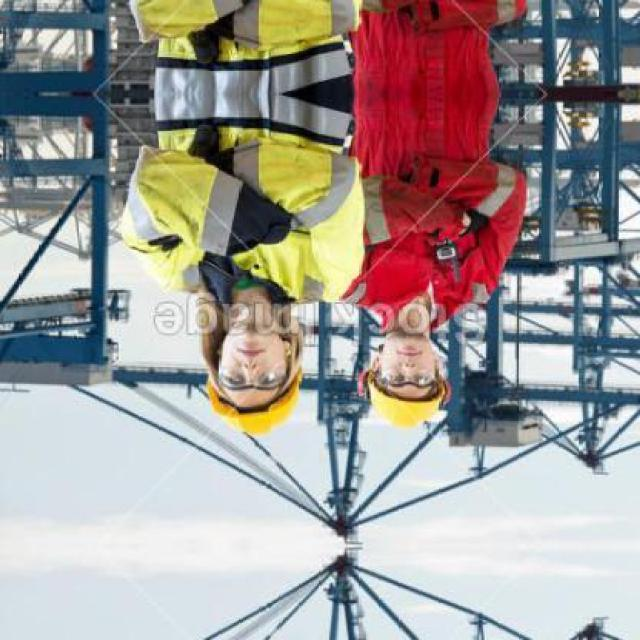safetyhelmet: (202, 338, 303, 431), (359, 340, 453, 426)
